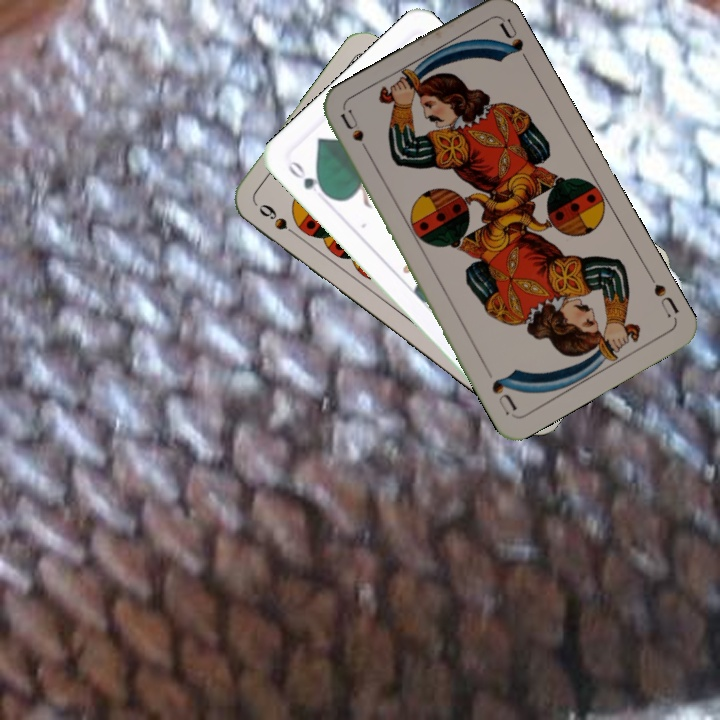GO: (283, 156, 332, 200)
S9: (254, 200, 303, 241)
SU: (336, 107, 375, 163), (649, 279, 681, 323)
